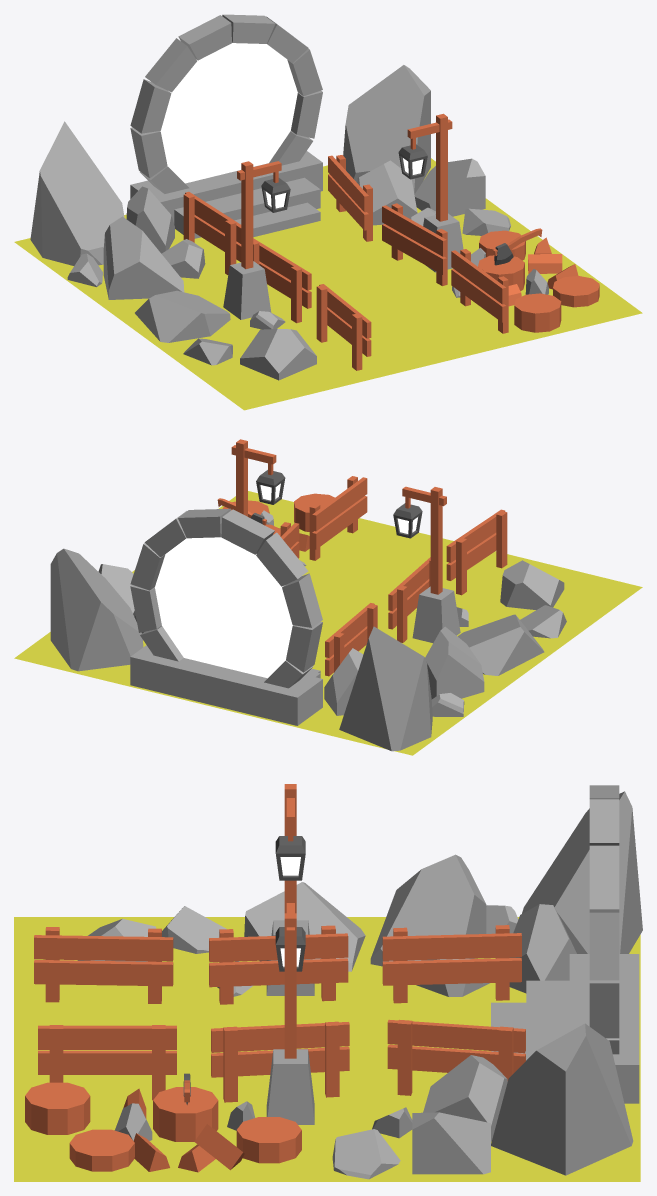
The model's file is portal.glb.
3 renders of one model, top to bottom at view 1: azimuth 30°, elevation 25°; view 2: azimuth 150°, elevation 25°; view 3: azimuth 270°, elevation 25°, orthographic. The views are drawn at different scales.
Visible parts, largest first — view 1: Plane, Circle, Cube.021, Cube.020, Cube.022, Cube.027, Cube.016, Cube.001, Cube.026, Cube.005, Cube, Cube.024 (+32 smaller); view 2: Plane, Circle, Cube.020, Cube.021, Cube.016, Cube.027, Cube.022, Cube.005, Cube, Cube.026, Cube.012, Cube.003 (+21 smaller); view 3: Plane, Cube.020, Cube.003, Cube.005, Cube.021, Cube, Cube.004, Cube.002, Cube.001, Cube.022, Cube.016, Cube.024 (+29 smaller).
Part boxes in pixels (x1=…): Plane: x1=14, y1=158, x2=642, y2=410; Circle: x1=160, y1=43, x2=297, y2=183; Cube.021: x1=30, y1=121, x2=124, y2=265; Cube.020: x1=343, y1=65, x2=430, y2=194; Cube.022: x1=103, y1=216, x2=184, y2=299; Cube.027: x1=135, y1=290, x2=230, y2=342; Cube.016: x1=130, y1=151, x2=322, y2=223; Cube.001: x1=382, y1=203, x2=447, y2=286; Cube.026: x1=240, y1=329, x2=316, y2=380; Cube.005: x1=316, y1=284, x2=371, y2=370; Cube: x1=451, y1=249, x2=508, y2=333; Cube.024: x1=414, y1=158, x2=485, y2=216; Plane: x1=14, y1=491, x2=642, y2=755; Circle: x1=155, y1=537, x2=292, y2=678; Cube.020: x1=50, y1=548, x2=143, y2=671; Cube.021: x1=339, y1=626, x2=432, y2=751; Cube.016: x1=130, y1=645, x2=322, y2=725; Cube.027: x1=458, y1=614, x2=544, y2=675; Cube.022: x1=425, y1=626, x2=484, y2=699; Cube.005: x1=446, y1=509, x2=507, y2=595; Cube: x1=309, y1=476, x2=367, y2=560; Cube.026: x1=500, y1=560, x2=564, y2=609; Cube.012: x1=412, y1=586, x2=460, y2=642; Cube.003: x1=325, y1=603, x2=377, y2=676; Plane: x1=14, y1=917, x2=640, y2=1181; Cube.020: x1=491, y1=1023, x2=633, y2=1175; Cube.003: x1=382, y1=925, x2=521, y2=1003; Cube.005: x1=34, y1=927, x2=173, y2=1003; Cube.021: x1=522, y1=791, x2=642, y2=953; Cube: x1=38, y1=1025, x2=176, y2=1100; Cube.004: x1=209, y1=925, x2=348, y2=1004; Cube.002: x1=387, y1=1019, x2=525, y2=1095; Cube.001: x1=211, y1=1021, x2=349, y2=1102; Cube.022: x1=370, y1=854, x2=486, y2=966; Cube.016: x1=569, y1=954, x2=639, y2=1103; Cube.024: x1=412, y1=1112, x2=490, y2=1174.
Bounding box in the file's own units: 4 × 1.85 × 4.01.
